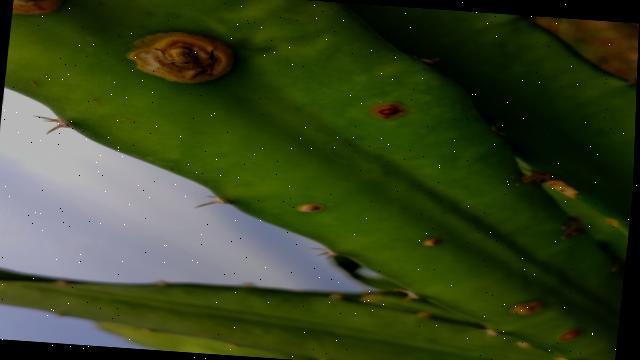stemcanker: (122, 26, 243, 89), (368, 101, 409, 120), (510, 299, 546, 319), (552, 327, 585, 346), (294, 200, 330, 216), (418, 235, 442, 250)
